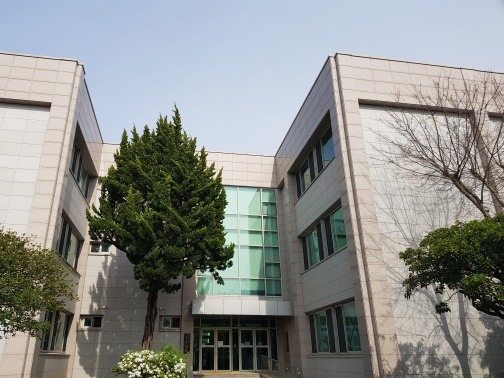College of Nursing: (22, 52, 484, 366)
